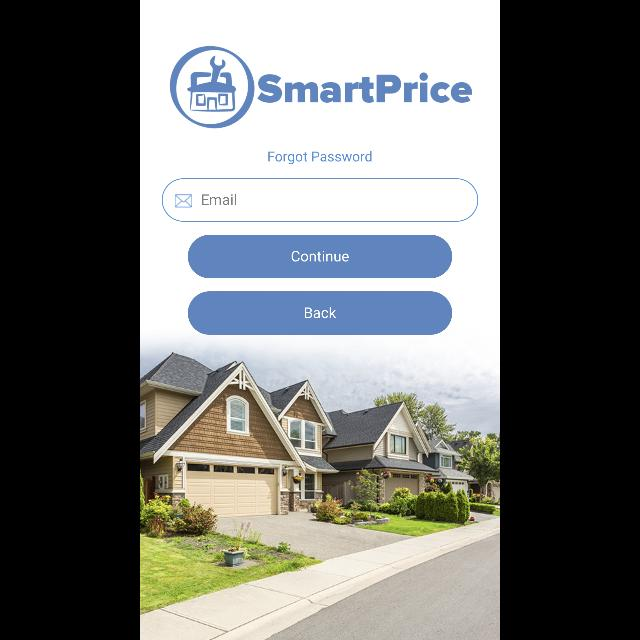icon: (175, 195, 192, 208)
image: (140, 348, 500, 640), (170, 47, 254, 129)
input: (162, 178, 478, 222)
text: (258, 73, 472, 104), (268, 152, 372, 164), (202, 194, 236, 206)
textbutton: (188, 291, 452, 335), (188, 235, 452, 279)
